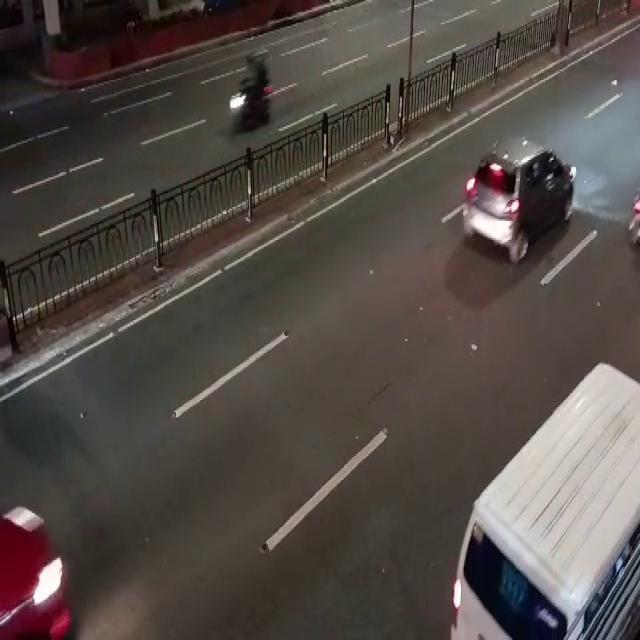car: (454, 367, 640, 640), (457, 130, 578, 267)
motorcycle: (231, 48, 275, 137)
